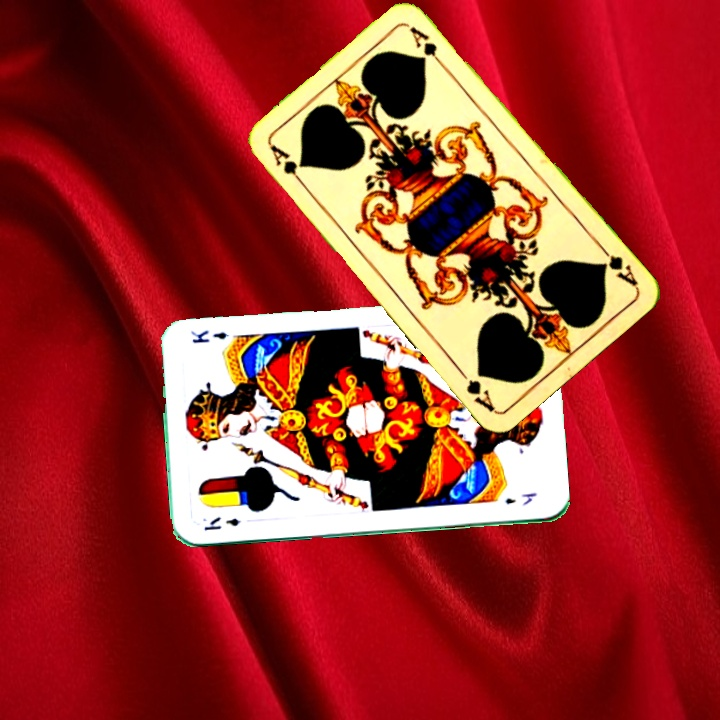EK: (199, 513, 242, 534)
GA: (265, 140, 309, 190), (595, 241, 640, 289)
